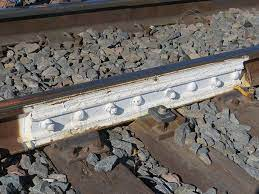insulated joint: (16, 54, 251, 151)
